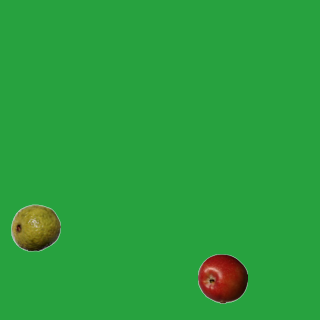Apple Braeburn: (197, 253, 247, 303)
Guava: (10, 202, 60, 252)
